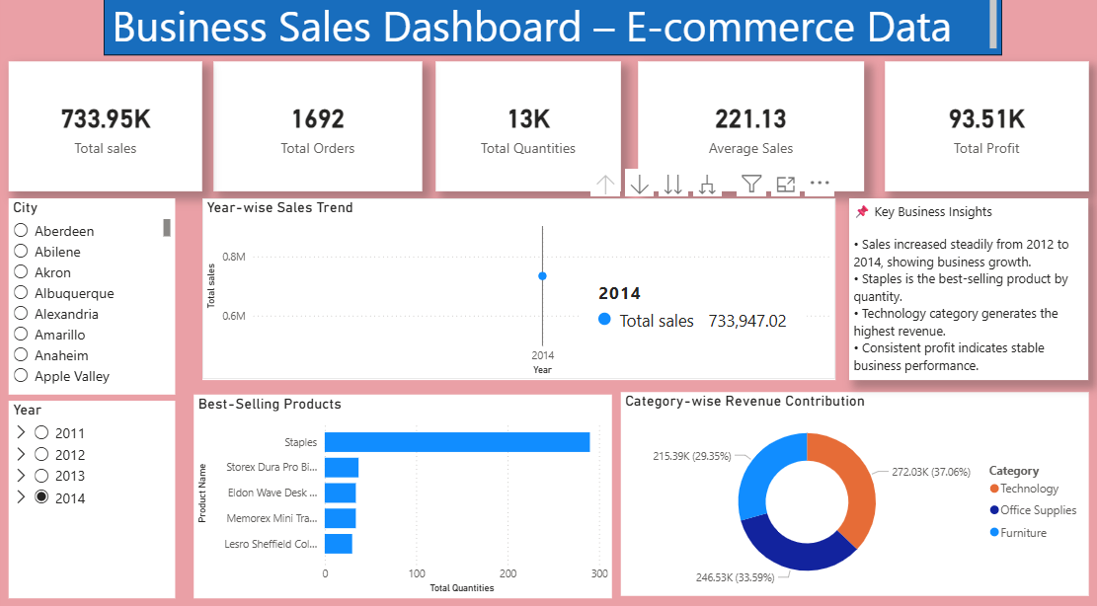

Layout of this report page (visuals, bound fields, positions):
{"tool":"powerbi","page":{"name":"Page 1","canvas":[1280,720],"ordinal":0},"visuals":[{"type":"card","fields":{"Values":["Orders.Total Quantities"]},"box":[504.3,81.4,214.3,150],"z":0},{"type":"card","fields":{"Values":["Orders.Total Orders"]},"box":[247.1,81.4,241.4,150],"z":1000},{"type":"card","fields":{"Values":["Orders.Average Sales"]},"box":[738.6,81.4,261.4,150],"z":2000},{"type":"card","fields":{"Values":["Orders.Total Profit"]},"box":[1024.3,81.4,235.7,150],"z":3000},{"type":"card","fields":{"Values":["Orders.Total sales"]},"box":[10,81.4,224.3,150],"z":4000},{"type":"lineChart","title":"Year-wise Sales Trend","fields":{"Category":["Orders.Order Date.Variation.Date Hierarchy.Year","Orders.Order Date.Variation.Date Hierarchy.Month"],"Y":["Orders.Total sales"]},"box":[234.3,240,732.9,210],"z":5000},{"type":"barChart","title":"Best-Selling Products","fields":{"Category":["Orders.Product Name"],"Y":["Orders.Total Quantities"]},"box":[224.3,467.1,484.3,235.7],"z":6000},{"type":"donutChart","title":"Category-wise Revenue Contribution","fields":{"Category":["Orders.Category"],"Y":["Orders.Total sales"]},"box":[718.6,464.3,541.4,235.7],"z":7000},{"type":"listSlicer","fields":{"Values":["Orders.City"]},"box":[10,240,192.9,227.1],"z":8000},{"type":"listSlicer","fields":{"Values":["Orders.Order Date.Variation.Date Hierarchy.Year","Orders.Order Date.Variation.Date Hierarchy.Day"]},"box":[10,474.3,192.9,228.6],"z":9000},{"type":"textbox","box":[120,0,1040,74.3],"z":10000},{"type":"textbox","box":[982.9,240,277.1,210],"z":11000}]}

Visuals, with their boxes in screenshot pixels (x1, y1, x2, y2), scaled from the page's 1280x720 canvas onto the 1097x606 screenshot:
card - Orders.Total Quantities: select_region(432, 69, 616, 195)
card - Orders.Total Orders: select_region(212, 69, 419, 195)
card - Orders.Average Sales: select_region(633, 69, 857, 195)
card - Orders.Total Profit: select_region(878, 69, 1080, 195)
card - Orders.Total sales: select_region(9, 69, 201, 195)
"Year-wise Sales Trend" lineChart: select_region(201, 202, 829, 379)
"Best-Selling Products" barChart: select_region(192, 393, 607, 592)
"Category-wise Revenue Contribution" donutChart: select_region(616, 391, 1080, 589)
listSlicer - Orders.City: select_region(9, 202, 174, 393)
listSlicer - Orders.Order Date.Variation.Date Hierarchy.Year x Orders.Order Date.Variation.Date Hierarchy.Day: select_region(9, 399, 174, 592)
textbox: select_region(103, 0, 994, 63)
textbox: select_region(842, 202, 1080, 379)
